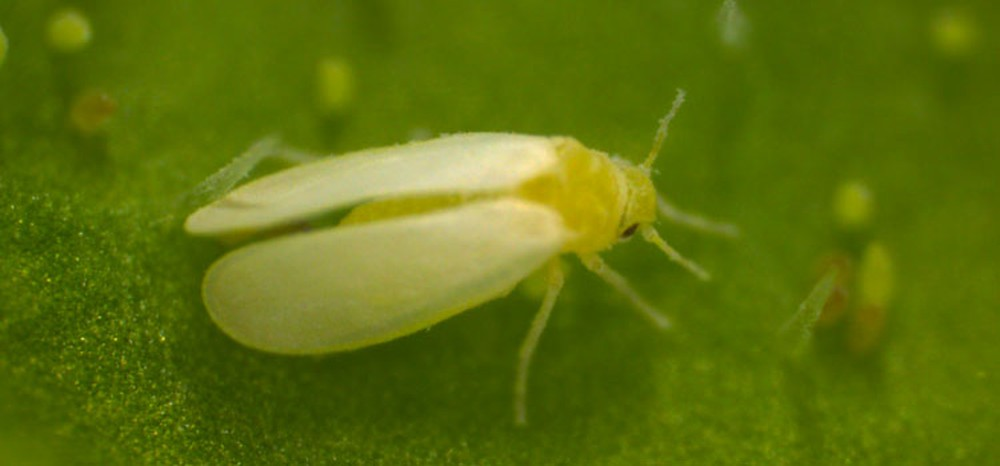Mosca Blanca: (181, 86, 732, 425)
